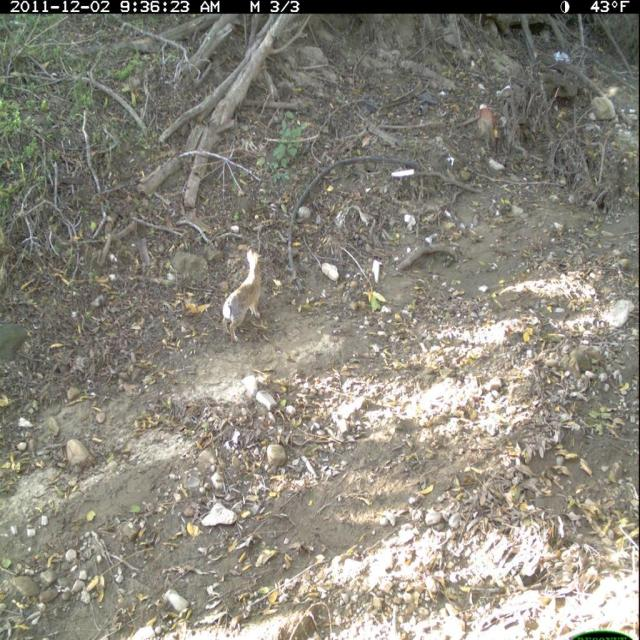rabbit: (210, 241, 274, 356)
